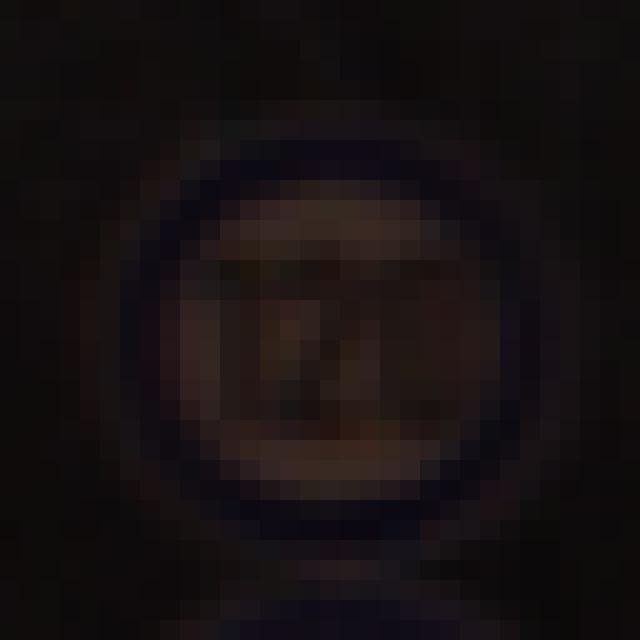SPEED LIMIT 120: (128, 141, 578, 515)
